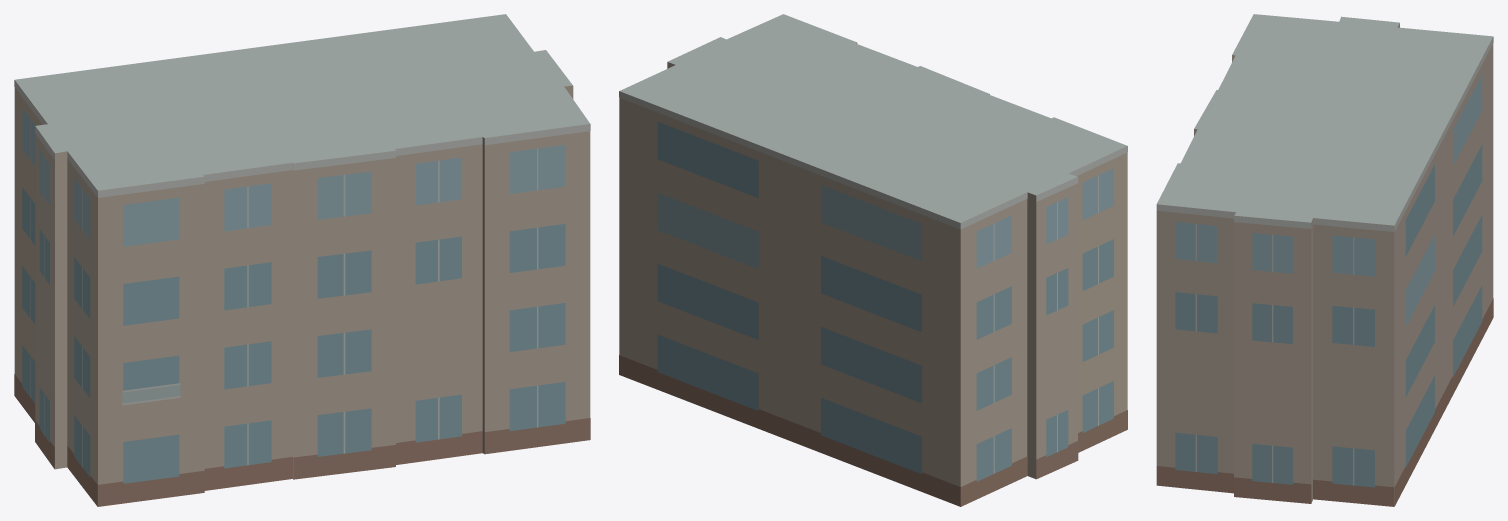
Rendered from survey-upis-32894243.glb.
3 renders of one model, left to right at view 1: azimuth 30°, elevation 25°; view 2: azimuth 150°, elevation 25°; view 3: azimuth 270°, elevation 25°, orthographic. The views are drawn at different scales.
Visible parts, largest first — view 1: survey-upis-32894243.tmp; view 2: survey-upis-32894243.tmp; view 3: survey-upis-32894243.tmp.
Boxes of the visible parts, <box> form: survey-upis-32894243.tmp: <box>14,14,590,506</box>; survey-upis-32894243.tmp: <box>619,14,1127,506</box>; survey-upis-32894243.tmp: <box>1156,14,1493,506</box>.
Bounding box in the file's own units: 17.35 × 10.75 × 11.68.
